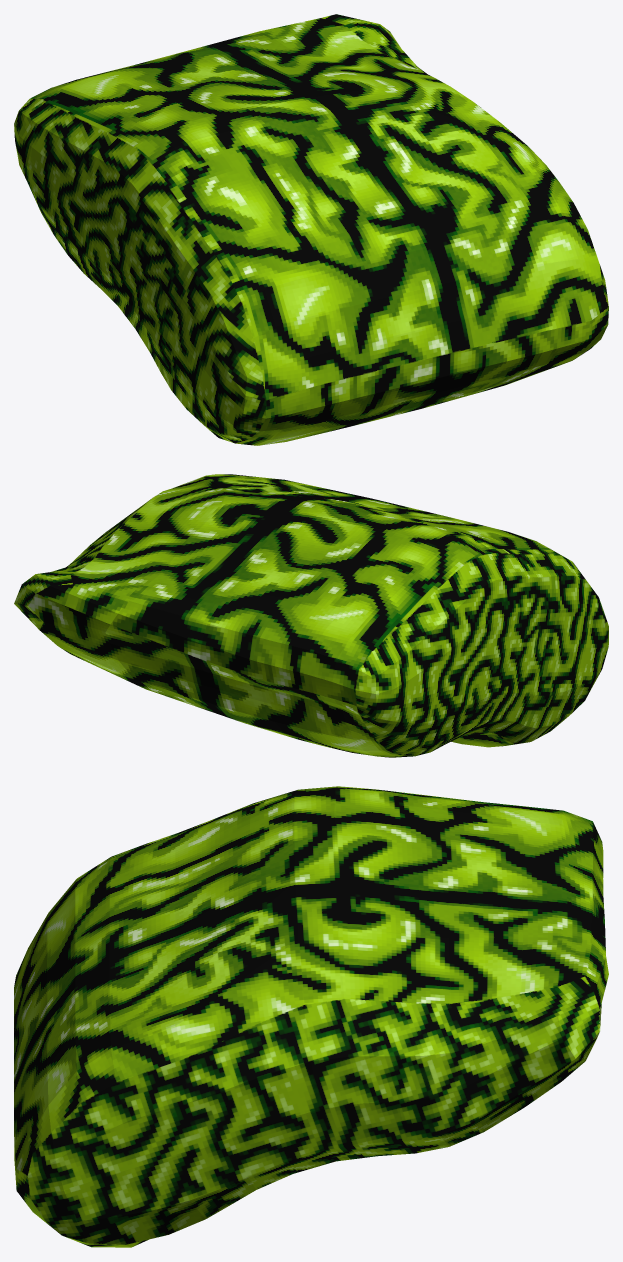
Rendered from Temporal.player.fbx.
The picture shows the model from 3 angles, top to bottom: view 1: azimuth 30°, elevation 25°; view 2: azimuth 150°, elevation 25°; view 3: azimuth 270°, elevation 25°; orthographic projection. The views are drawn at different scales.
Visible parts, largest first — view 1: Temporal; view 2: Temporal; view 3: Temporal.
Part boxes in pixels (x1,y1,x2,y2): Temporal: (14, 14, 608, 445); Temporal: (14, 474, 608, 757); Temporal: (14, 786, 608, 1247).
Size of the model in its own units: 236 by 150 by 262.
1 material, 1 textured.
